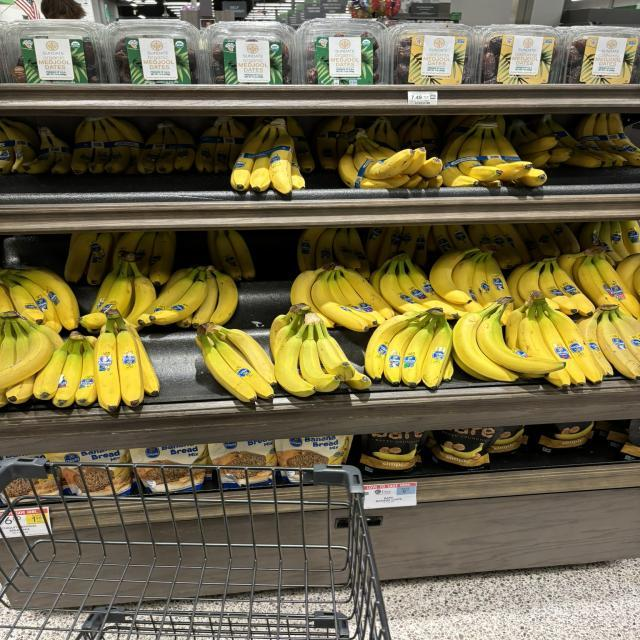Banana: (270, 302, 372, 396), (453, 296, 565, 381), (505, 291, 602, 388), (442, 122, 555, 191), (290, 262, 395, 331), (365, 308, 453, 389), (95, 310, 160, 411), (195, 322, 275, 402), (370, 254, 467, 319), (338, 129, 443, 189), (137, 266, 238, 328), (80, 251, 157, 330), (558, 246, 640, 318), (0, 311, 63, 404), (230, 119, 305, 194), (430, 244, 510, 312), (0, 268, 80, 331), (507, 258, 595, 315), (33, 331, 97, 408), (577, 305, 640, 379)
